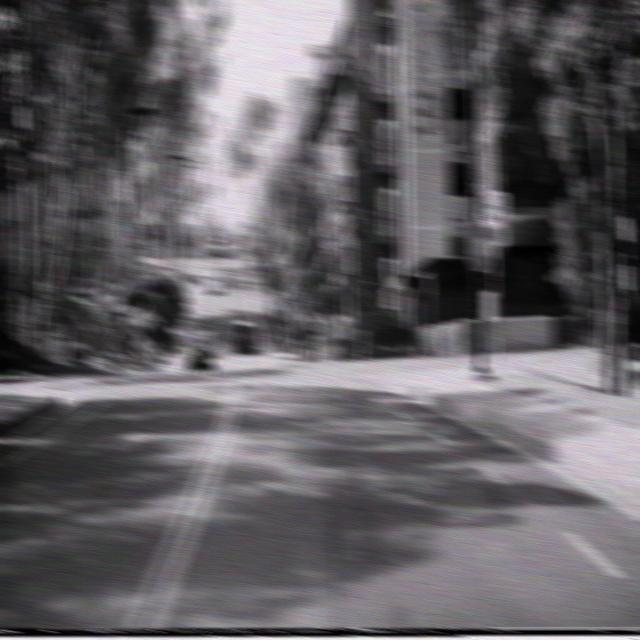stop: (464, 220, 494, 272)
